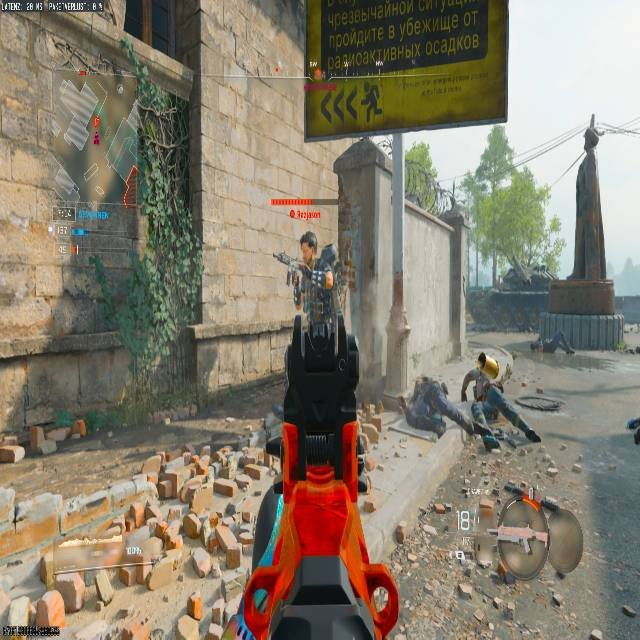head: (300, 231, 317, 259)
player: (460, 351, 541, 450), (275, 231, 343, 343)
